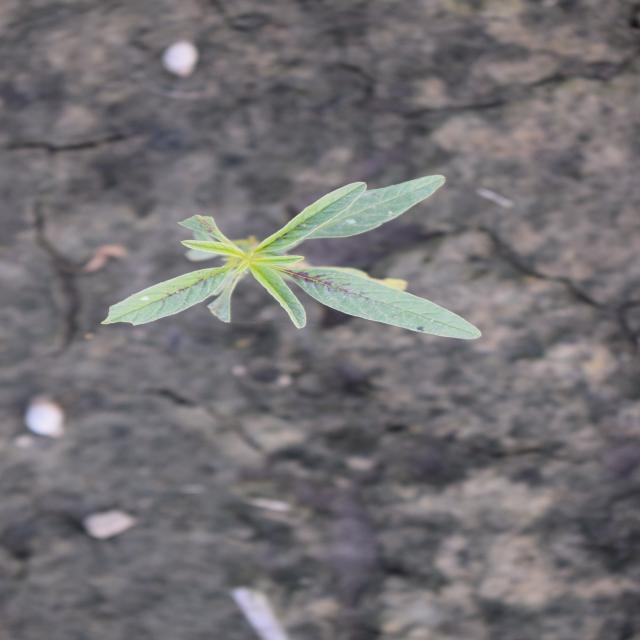Waterhemp: (98, 172, 488, 343)
